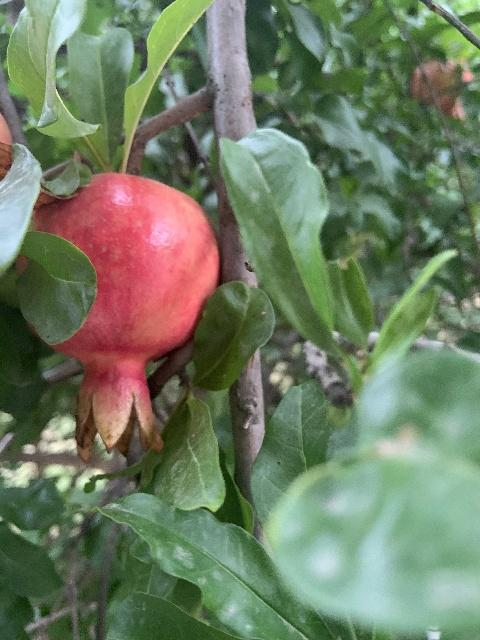ripe: (12, 173, 220, 460), (410, 59, 473, 122)
